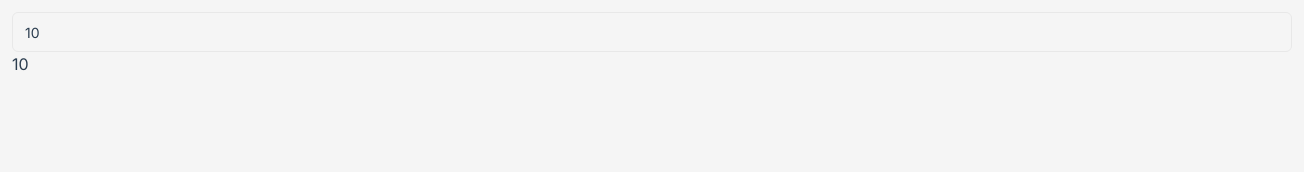
Test: NumberInput › respeita min ao digitar abaixo do mínimo (snap no blur)
Replace the text in the field named "num" with "2" at (652, 32), box [12, 12, 1292, 52]
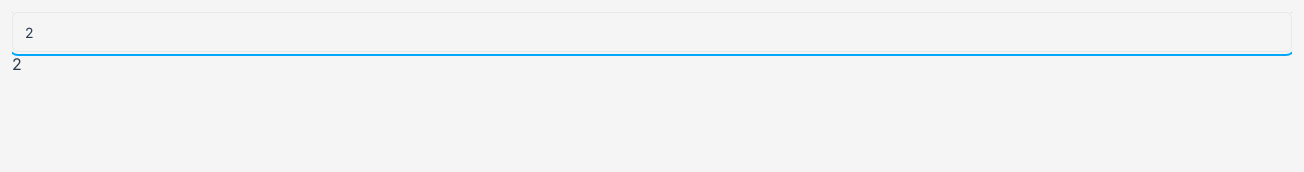
Leave the field named "num", box [12, 12, 1292, 52]
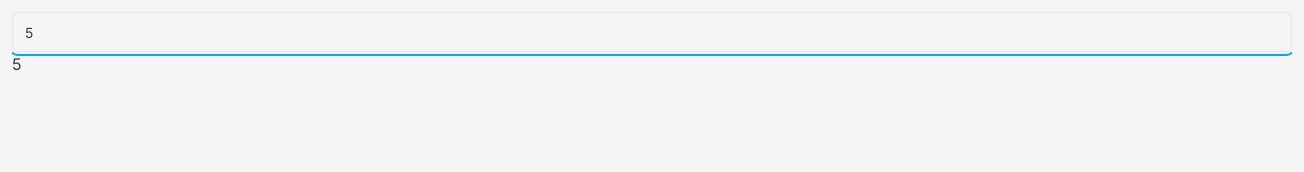
Result: the text with test id "value" reads "5" at [12, 54, 22, 74]
